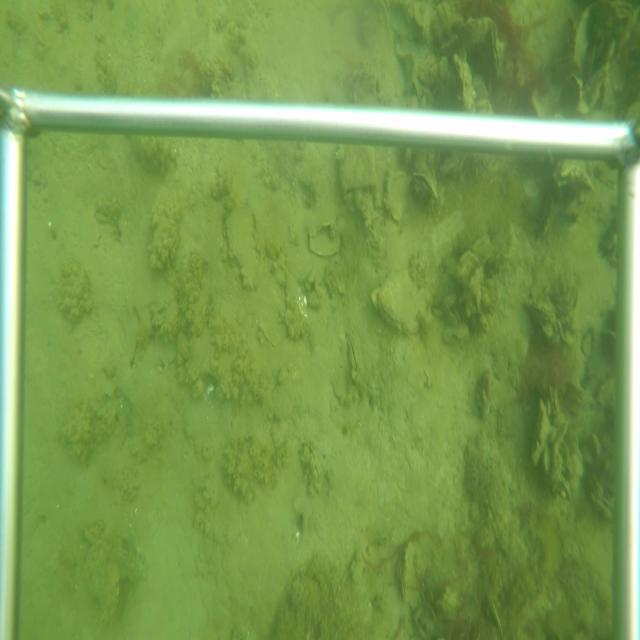Oyster-Closed: (370, 267, 434, 336), (520, 299, 568, 344), (347, 335, 361, 388)
Oyster-Indeterminate: (222, 200, 259, 290), (382, 172, 409, 221)
Oyster-Open: (412, 174, 439, 207), (488, 20, 503, 78)
